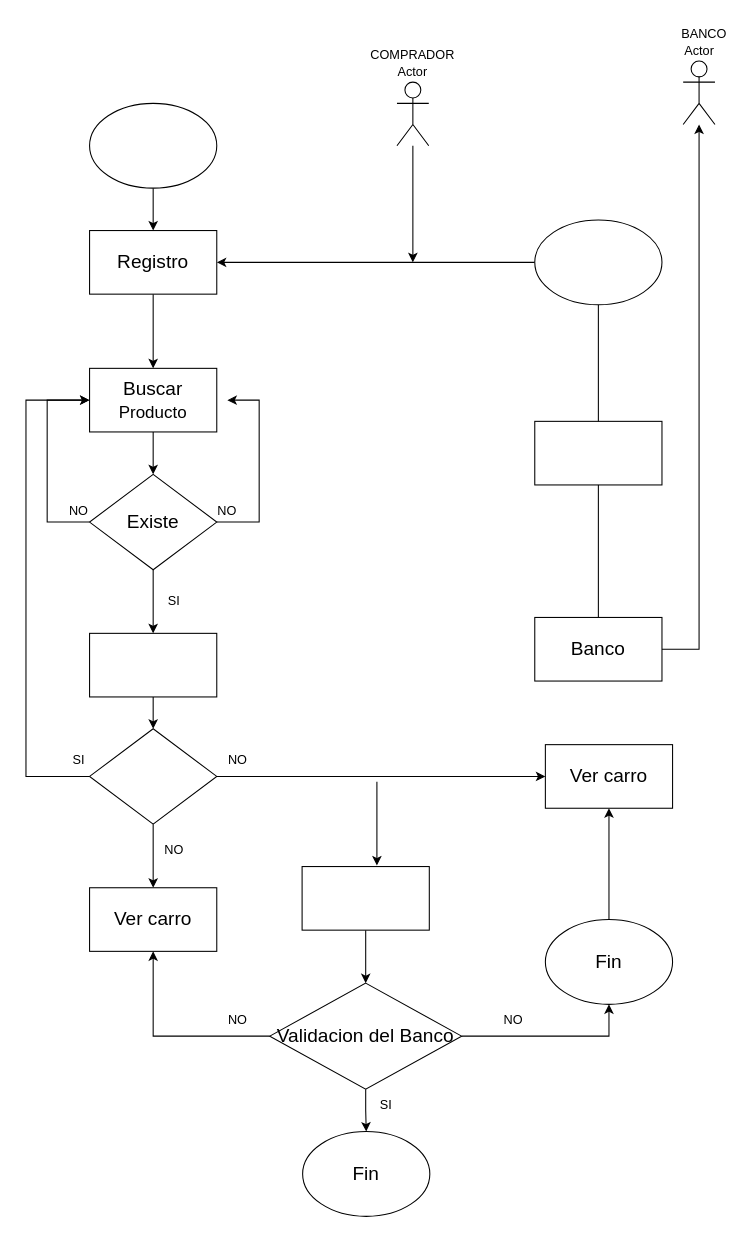
Image size: 755x1235. Some labels were removed from this diagram. The shapes that lost their labels are listed below. From the top down, each one's centre as x and y in pixels, then its label:
the point at 153,145: inicio
the point at 598,262: Comprar
the point at 598,452: Trasaccion
the point at 153,664: Agregar al carro
the point at 153,776: Mas?
the point at 365,897: Reaalizar pago
